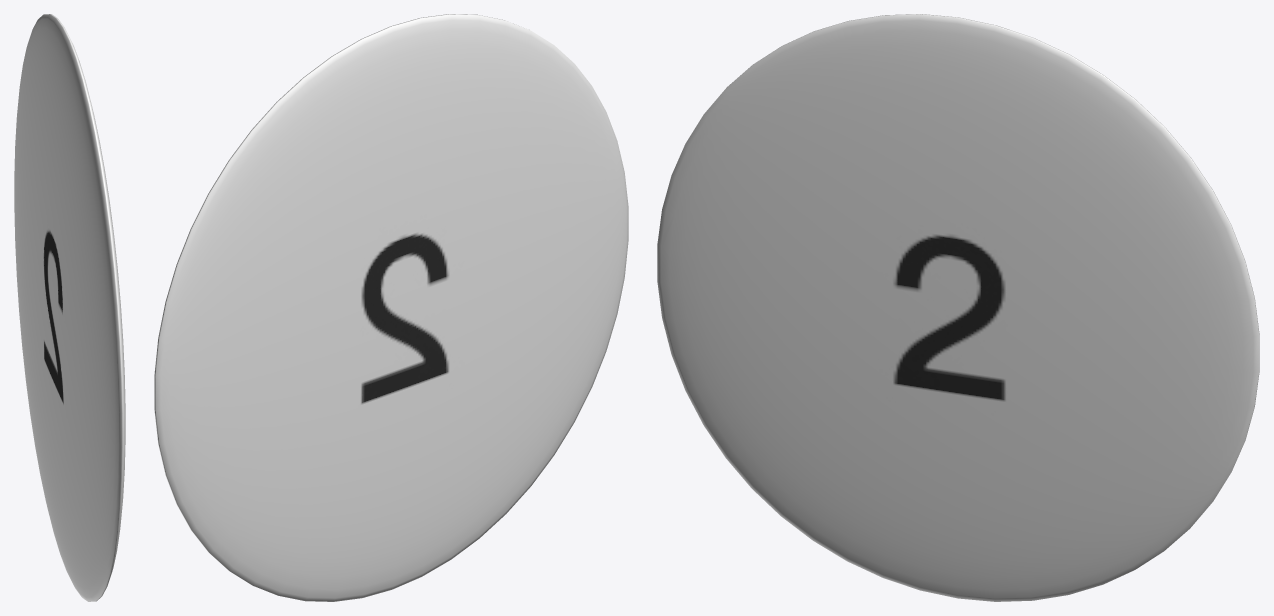
File: anniu6.FBX
The picture shows the model from 3 angles, left to right: view 1: azimuth 30°, elevation 25°; view 2: azimuth 150°, elevation 25°; view 3: azimuth 270°, elevation 25°; orthographic projection. The views are drawn at different scales.
Visible parts, largest first — view 1: Sphere5; view 2: Sphere5; view 3: Sphere5.
Boxes of the visible parts, x1,y1,x2,y2 form: Sphere5: [14, 14, 125, 601]; Sphere5: [154, 14, 628, 601]; Sphere5: [657, 14, 1259, 601].
Bounding box in the file's own units: 3.75 × 10.98 × 10.33.
1 material, 1 textured.
